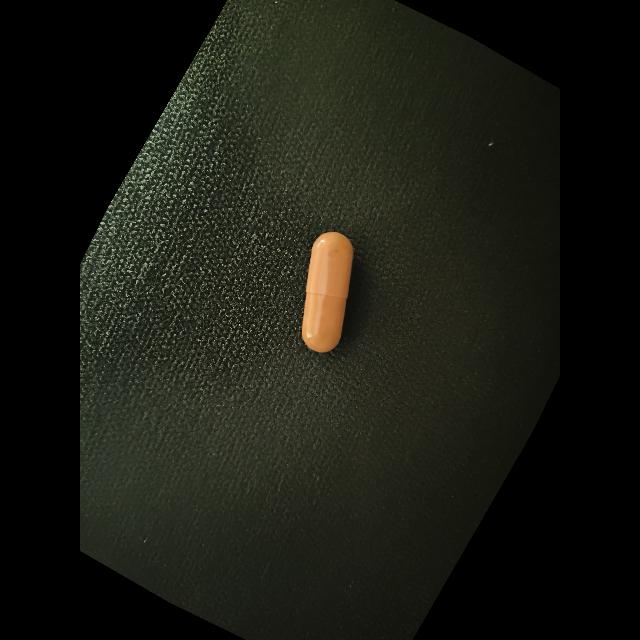Intact Capsule: (302, 232, 353, 353)
